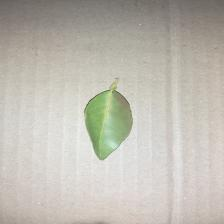greening: (75, 75, 144, 165)
